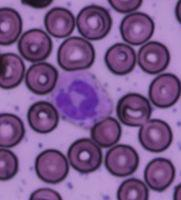N: (50, 68, 112, 130)
